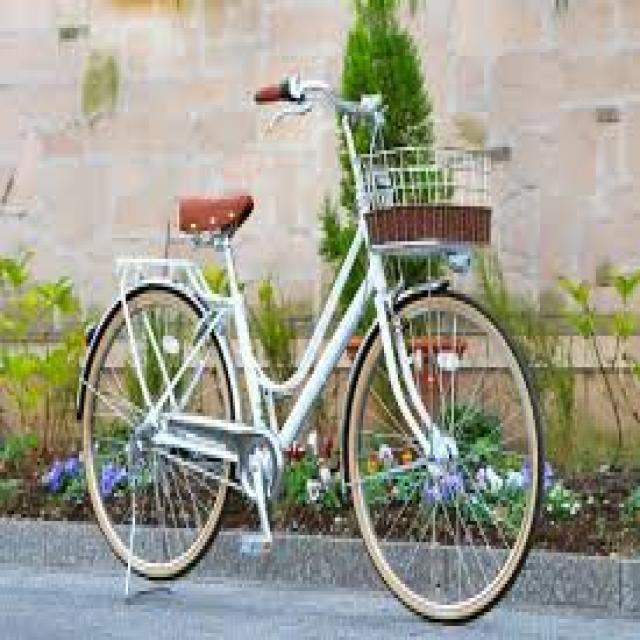basket: (356, 147, 494, 255)
